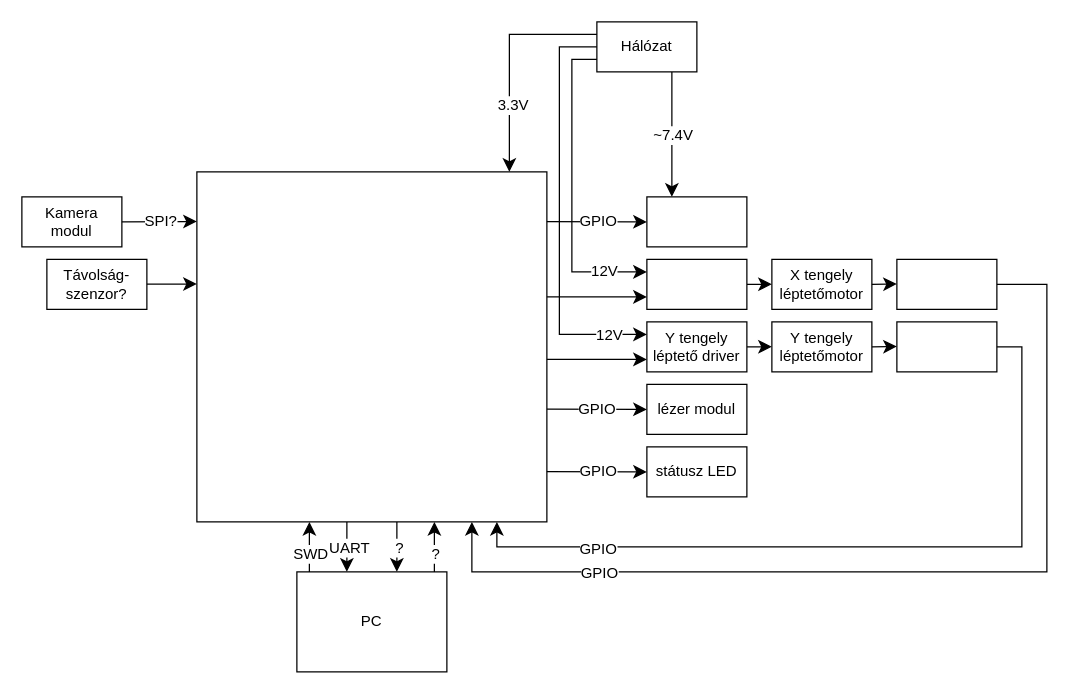
This 1081x694 diagram has some shape labels left out. The shapes that lost their labels are listed below. From the top down, each one's centre as x and y in pixels, then its label:
At (x=696, y=221): "Gearbox".
At (x=696, y=283): "X tengely léptető driver".
At (x=946, y=283): "X tengely ZERO switch".
At (x=371, y=346): "Mikrokontroller".
At (x=946, y=346): "Y tengely ZERO switch".
